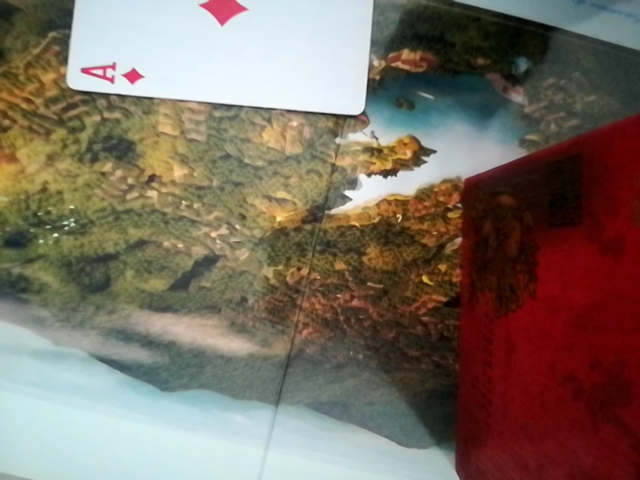fk a: (59, 1, 377, 117)
